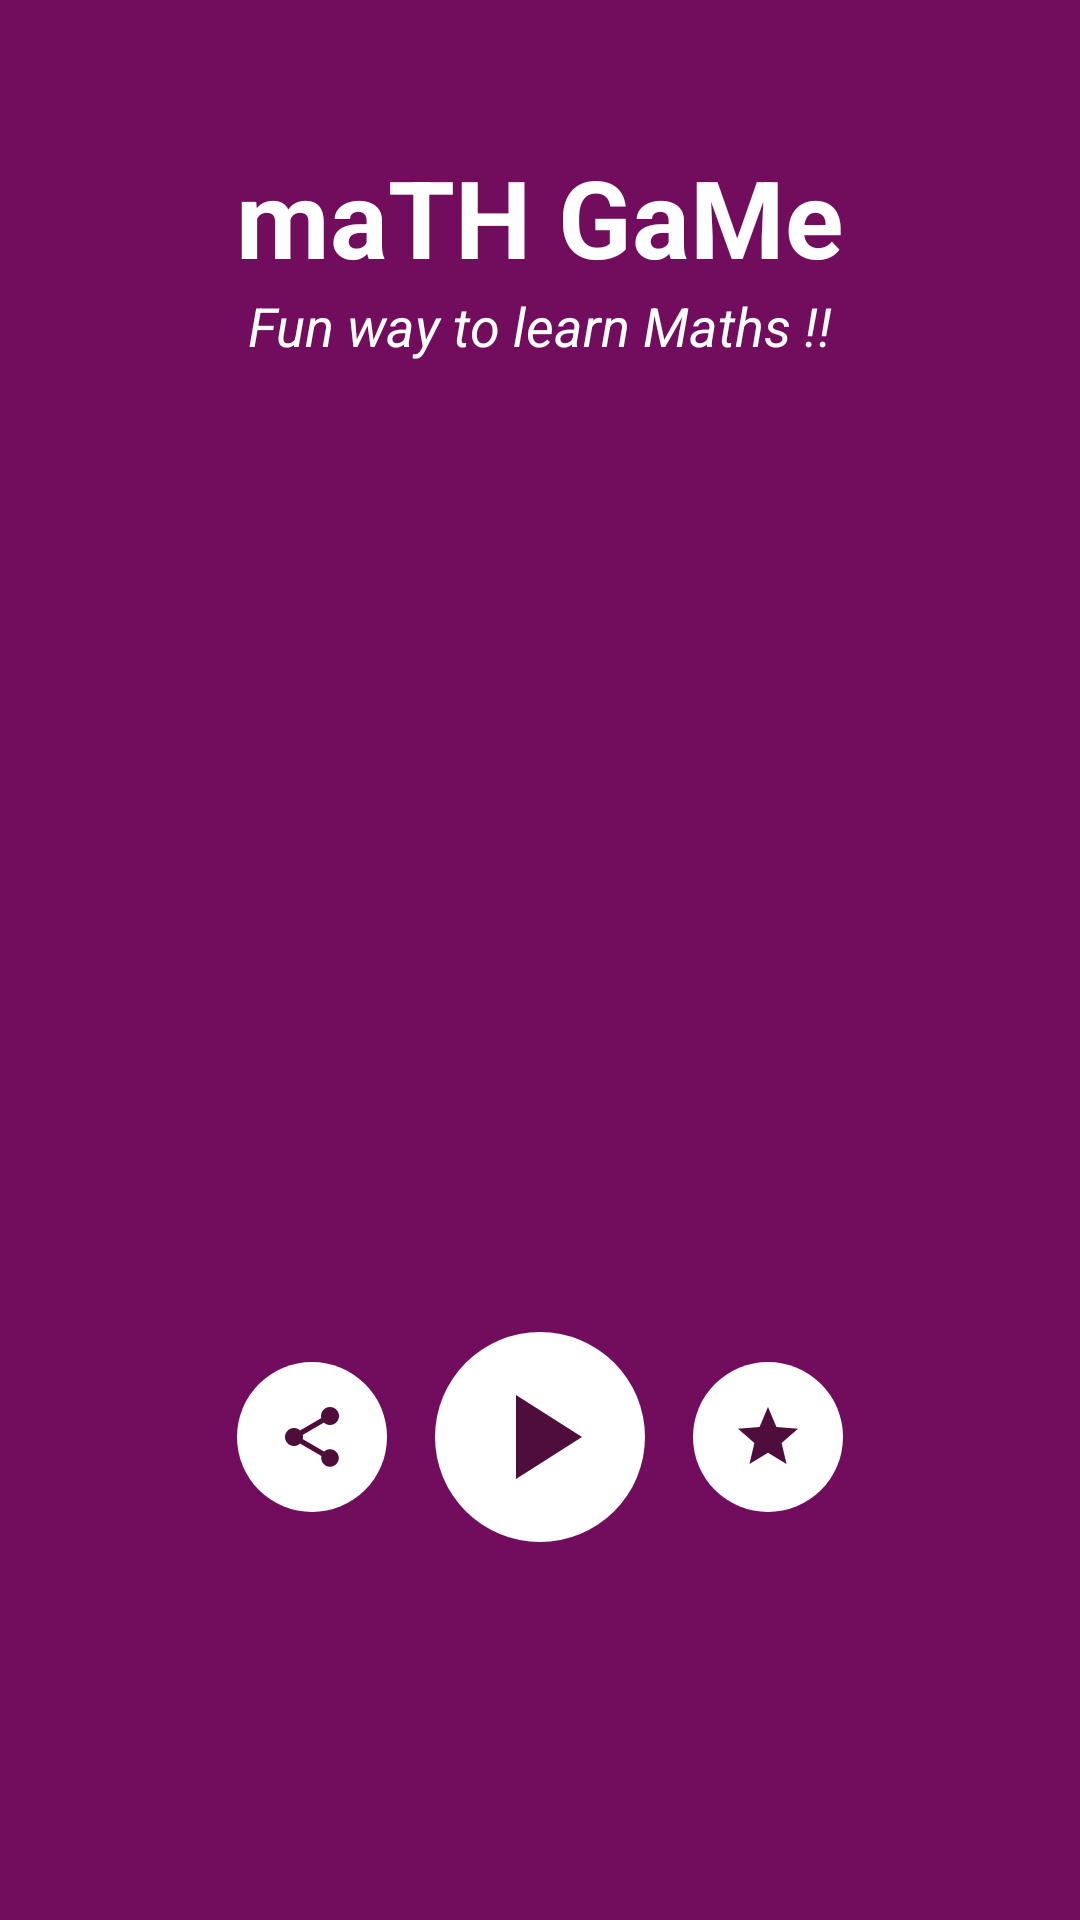

Screen size 1080 × 1920. Icon name, then its box in pixels as (x1, y1, x2, y2):
play: (435, 1332, 645, 1542)
share: (237, 1362, 387, 1512)
star: (693, 1362, 843, 1512)
